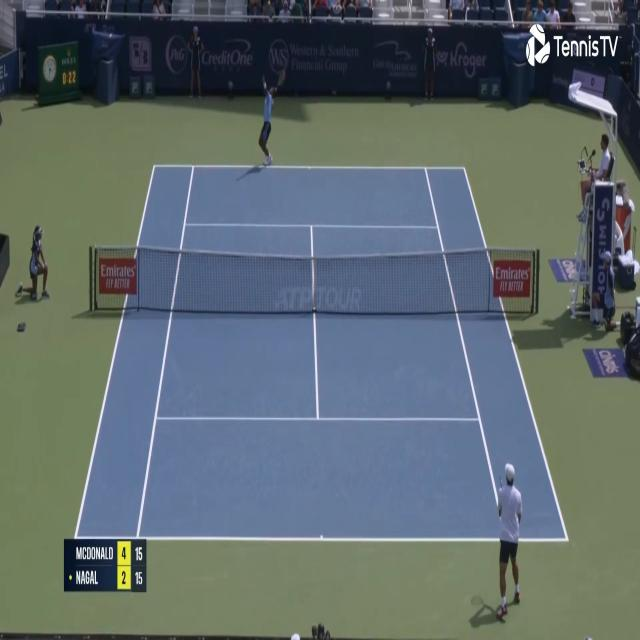tennis-player: (492, 460, 525, 629), (256, 65, 284, 173)
